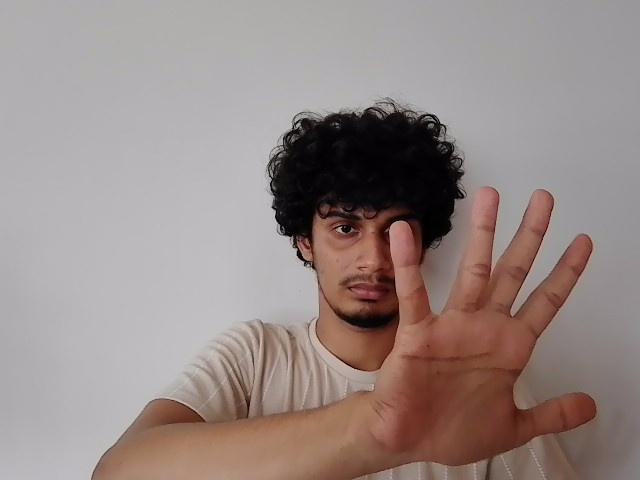goodbye: (372, 183, 603, 460)
